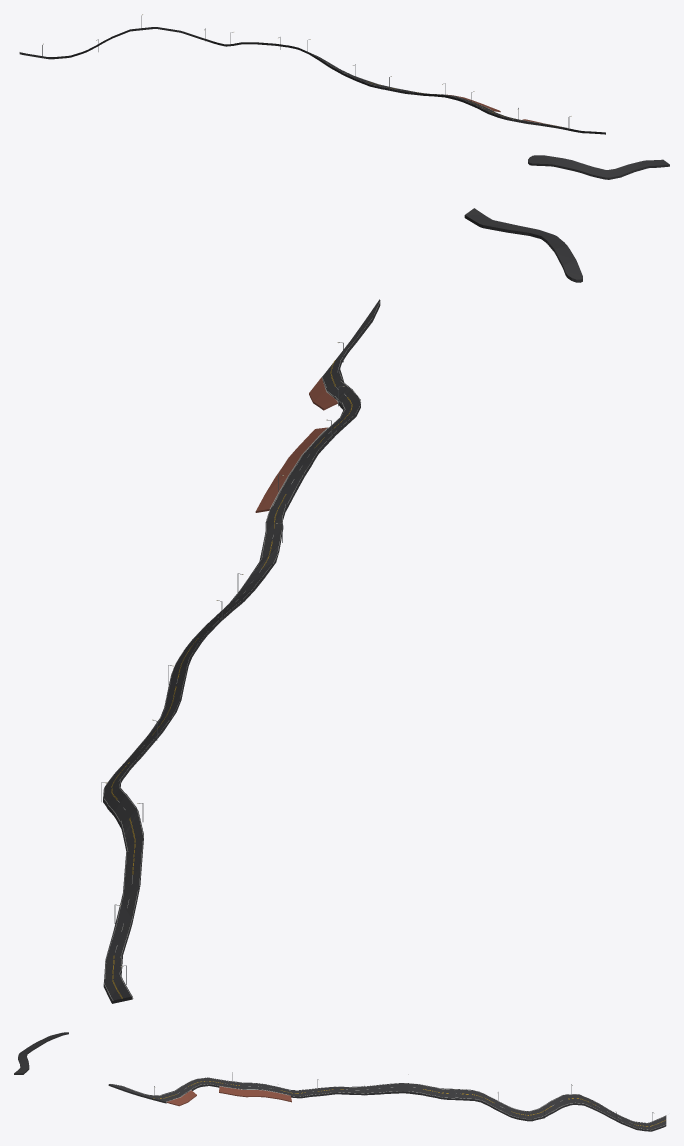
The model's file is 16-54719-29723.5ecc0d51.glb.
3 renders of one model, top to bottom at view 1: azimuth 30°, elevation 25°; view 2: azimuth 150°, elevation 25°; view 3: azimuth 270°, elevation 25°, orthographic. The views are drawn at different scales.
Bounding box in the file's own units: 128 × 101 × 461.
